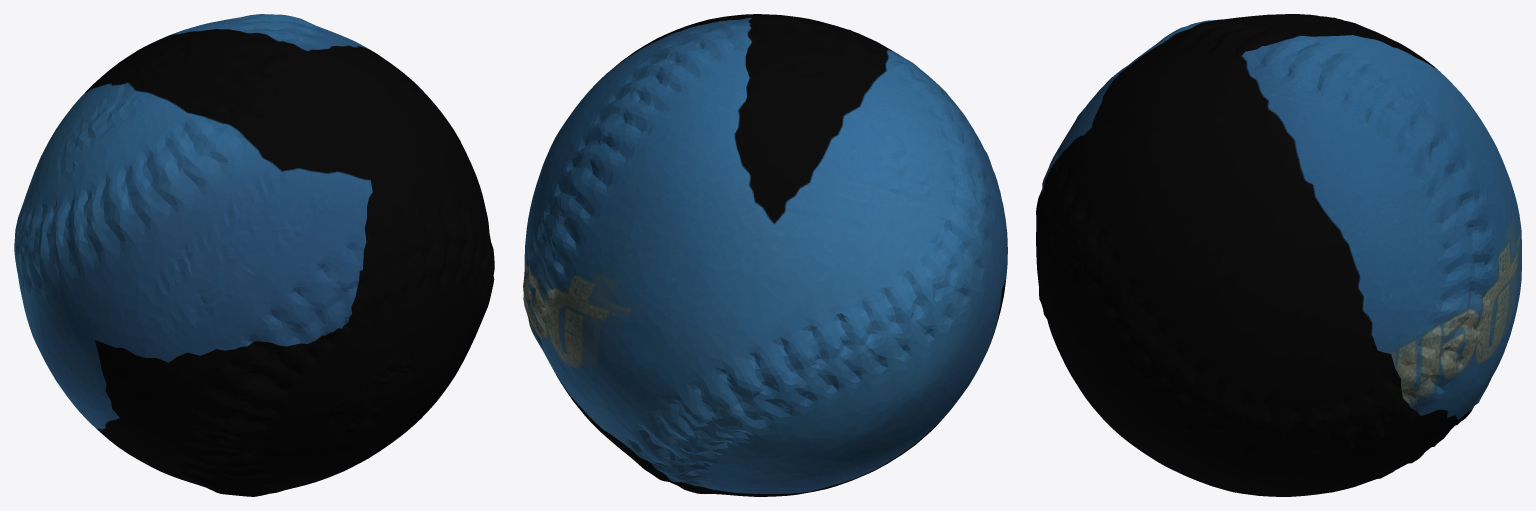
3 views of the same model, side by side, from view 1: azimuth 30°, elevation 25°; view 2: azimuth 150°, elevation 25°; view 3: azimuth 270°, elevation 25° (orthographic). The views are drawn at different scales.
Visible parts, largest first — view 1: node; view 2: node; view 3: node.
Part boxes in pixels (bbox=[...]): node: bbox=[14, 14, 494, 496]; node: bbox=[523, 14, 1007, 496]; node: bbox=[1036, 14, 1521, 496].
Bounding box in the file's own units: 0.0731 × 0.0737 × 0.0726.
